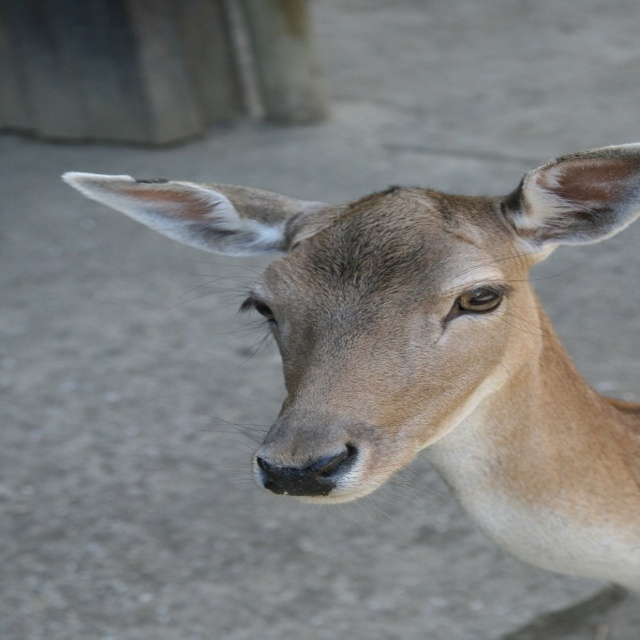Deer: (58, 140, 639, 592)
